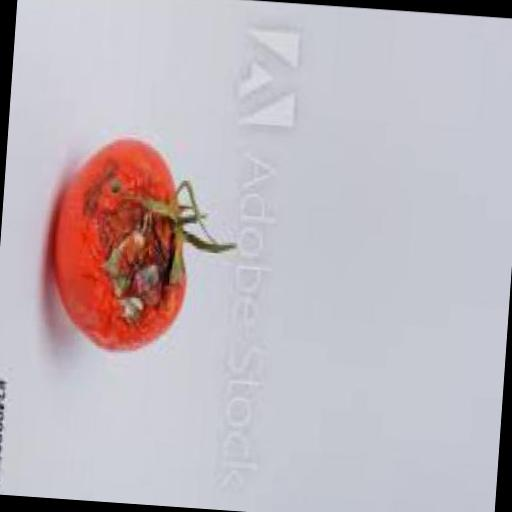biodegradable: (48, 129, 246, 354)
